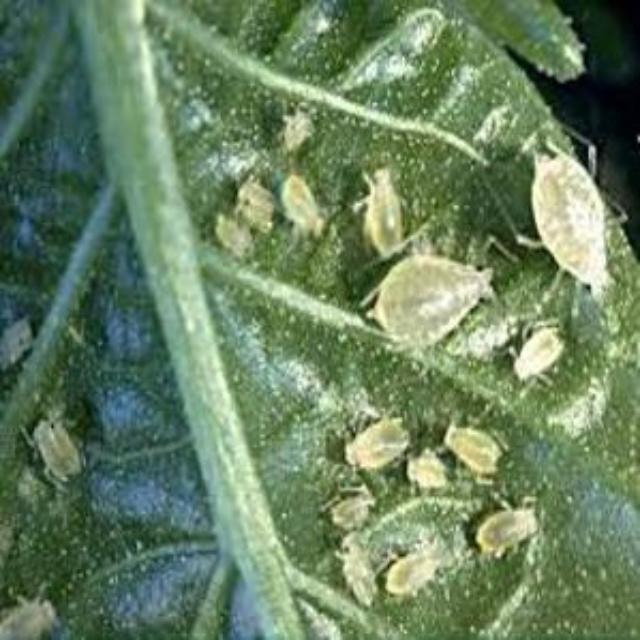Green peach aphid: (504, 111, 636, 322), (352, 234, 482, 358), (20, 392, 116, 501), (322, 407, 412, 488), (459, 489, 543, 575), (440, 398, 516, 492), (346, 167, 414, 263), (506, 310, 570, 406), (326, 532, 394, 620), (186, 198, 266, 272), (394, 534, 458, 612), (269, 165, 327, 251), (0, 582, 84, 640), (234, 158, 288, 248), (266, 96, 328, 166), (312, 480, 390, 534), (397, 431, 443, 497)
